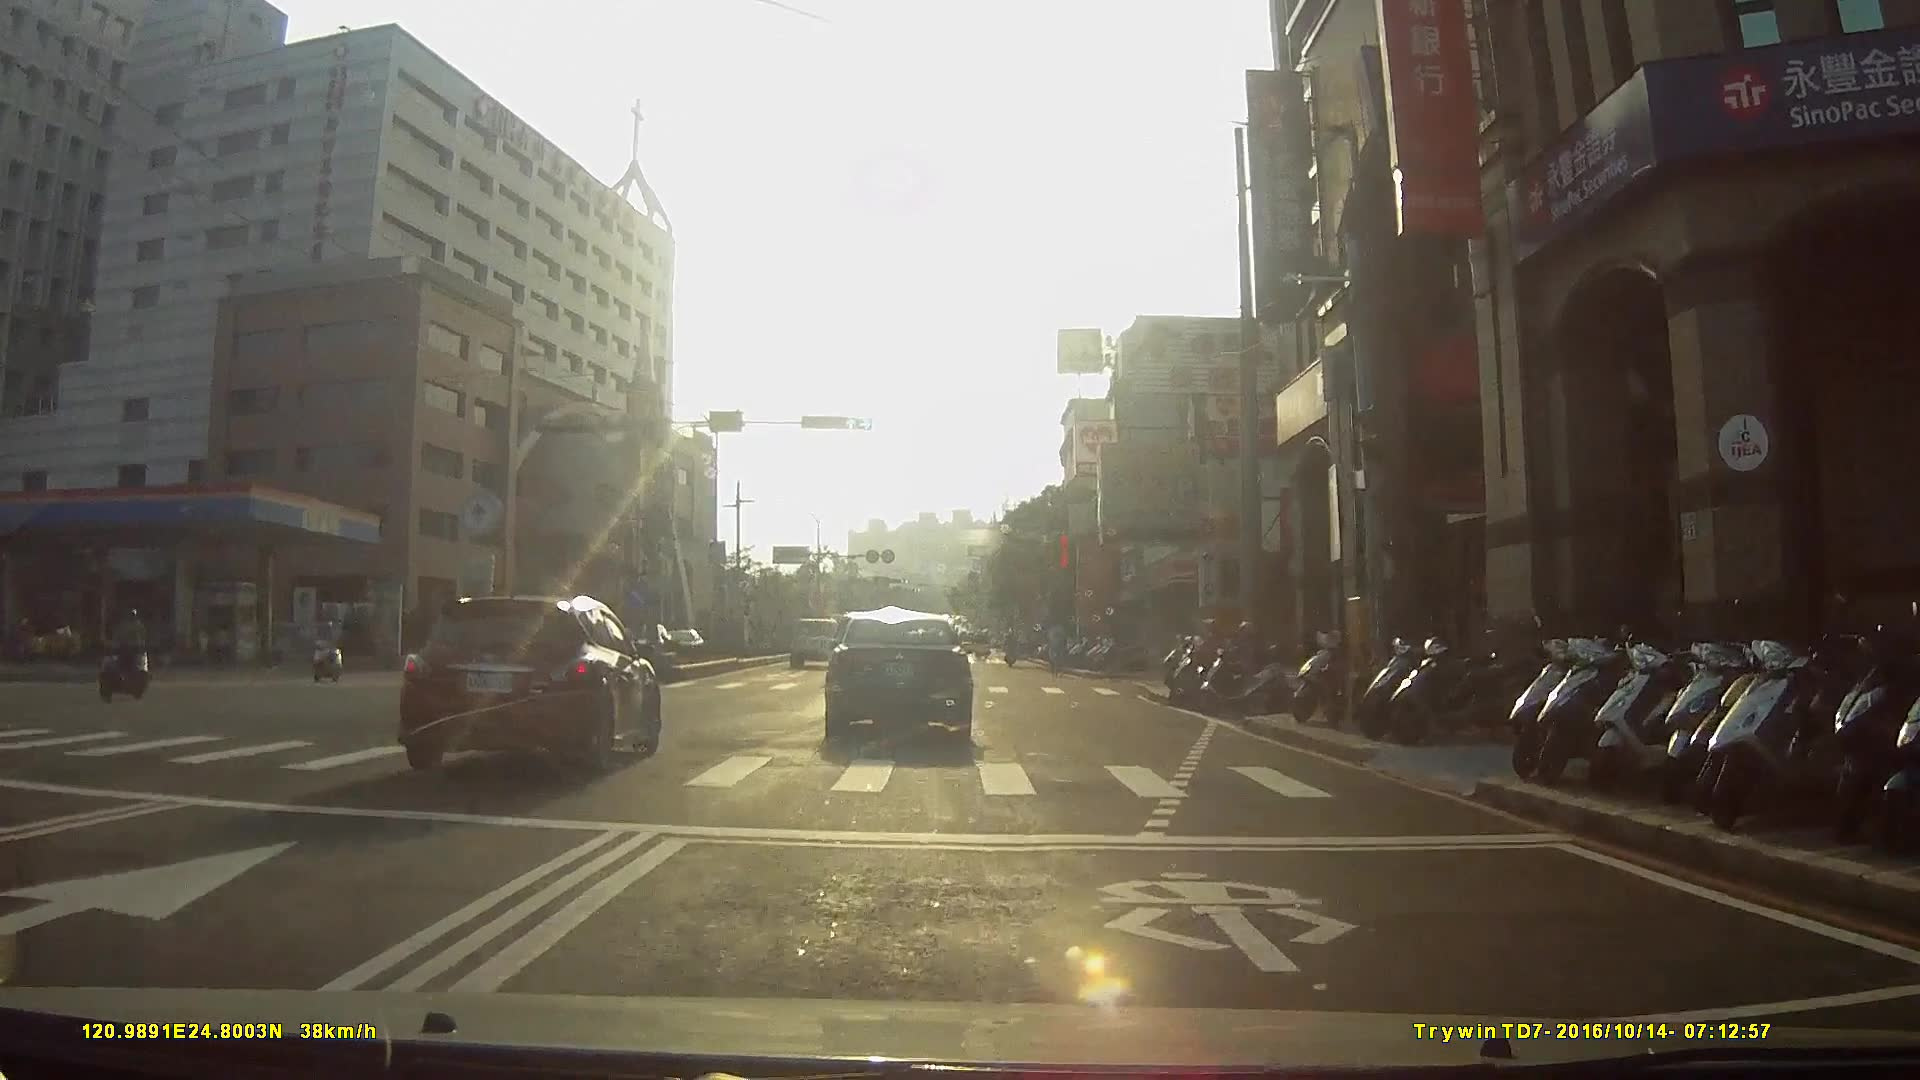rider: (1188, 616, 1295, 718), (99, 605, 153, 703), (311, 621, 343, 683)
vehicle: (393, 584, 674, 781), (821, 604, 989, 745), (789, 610, 848, 665)
